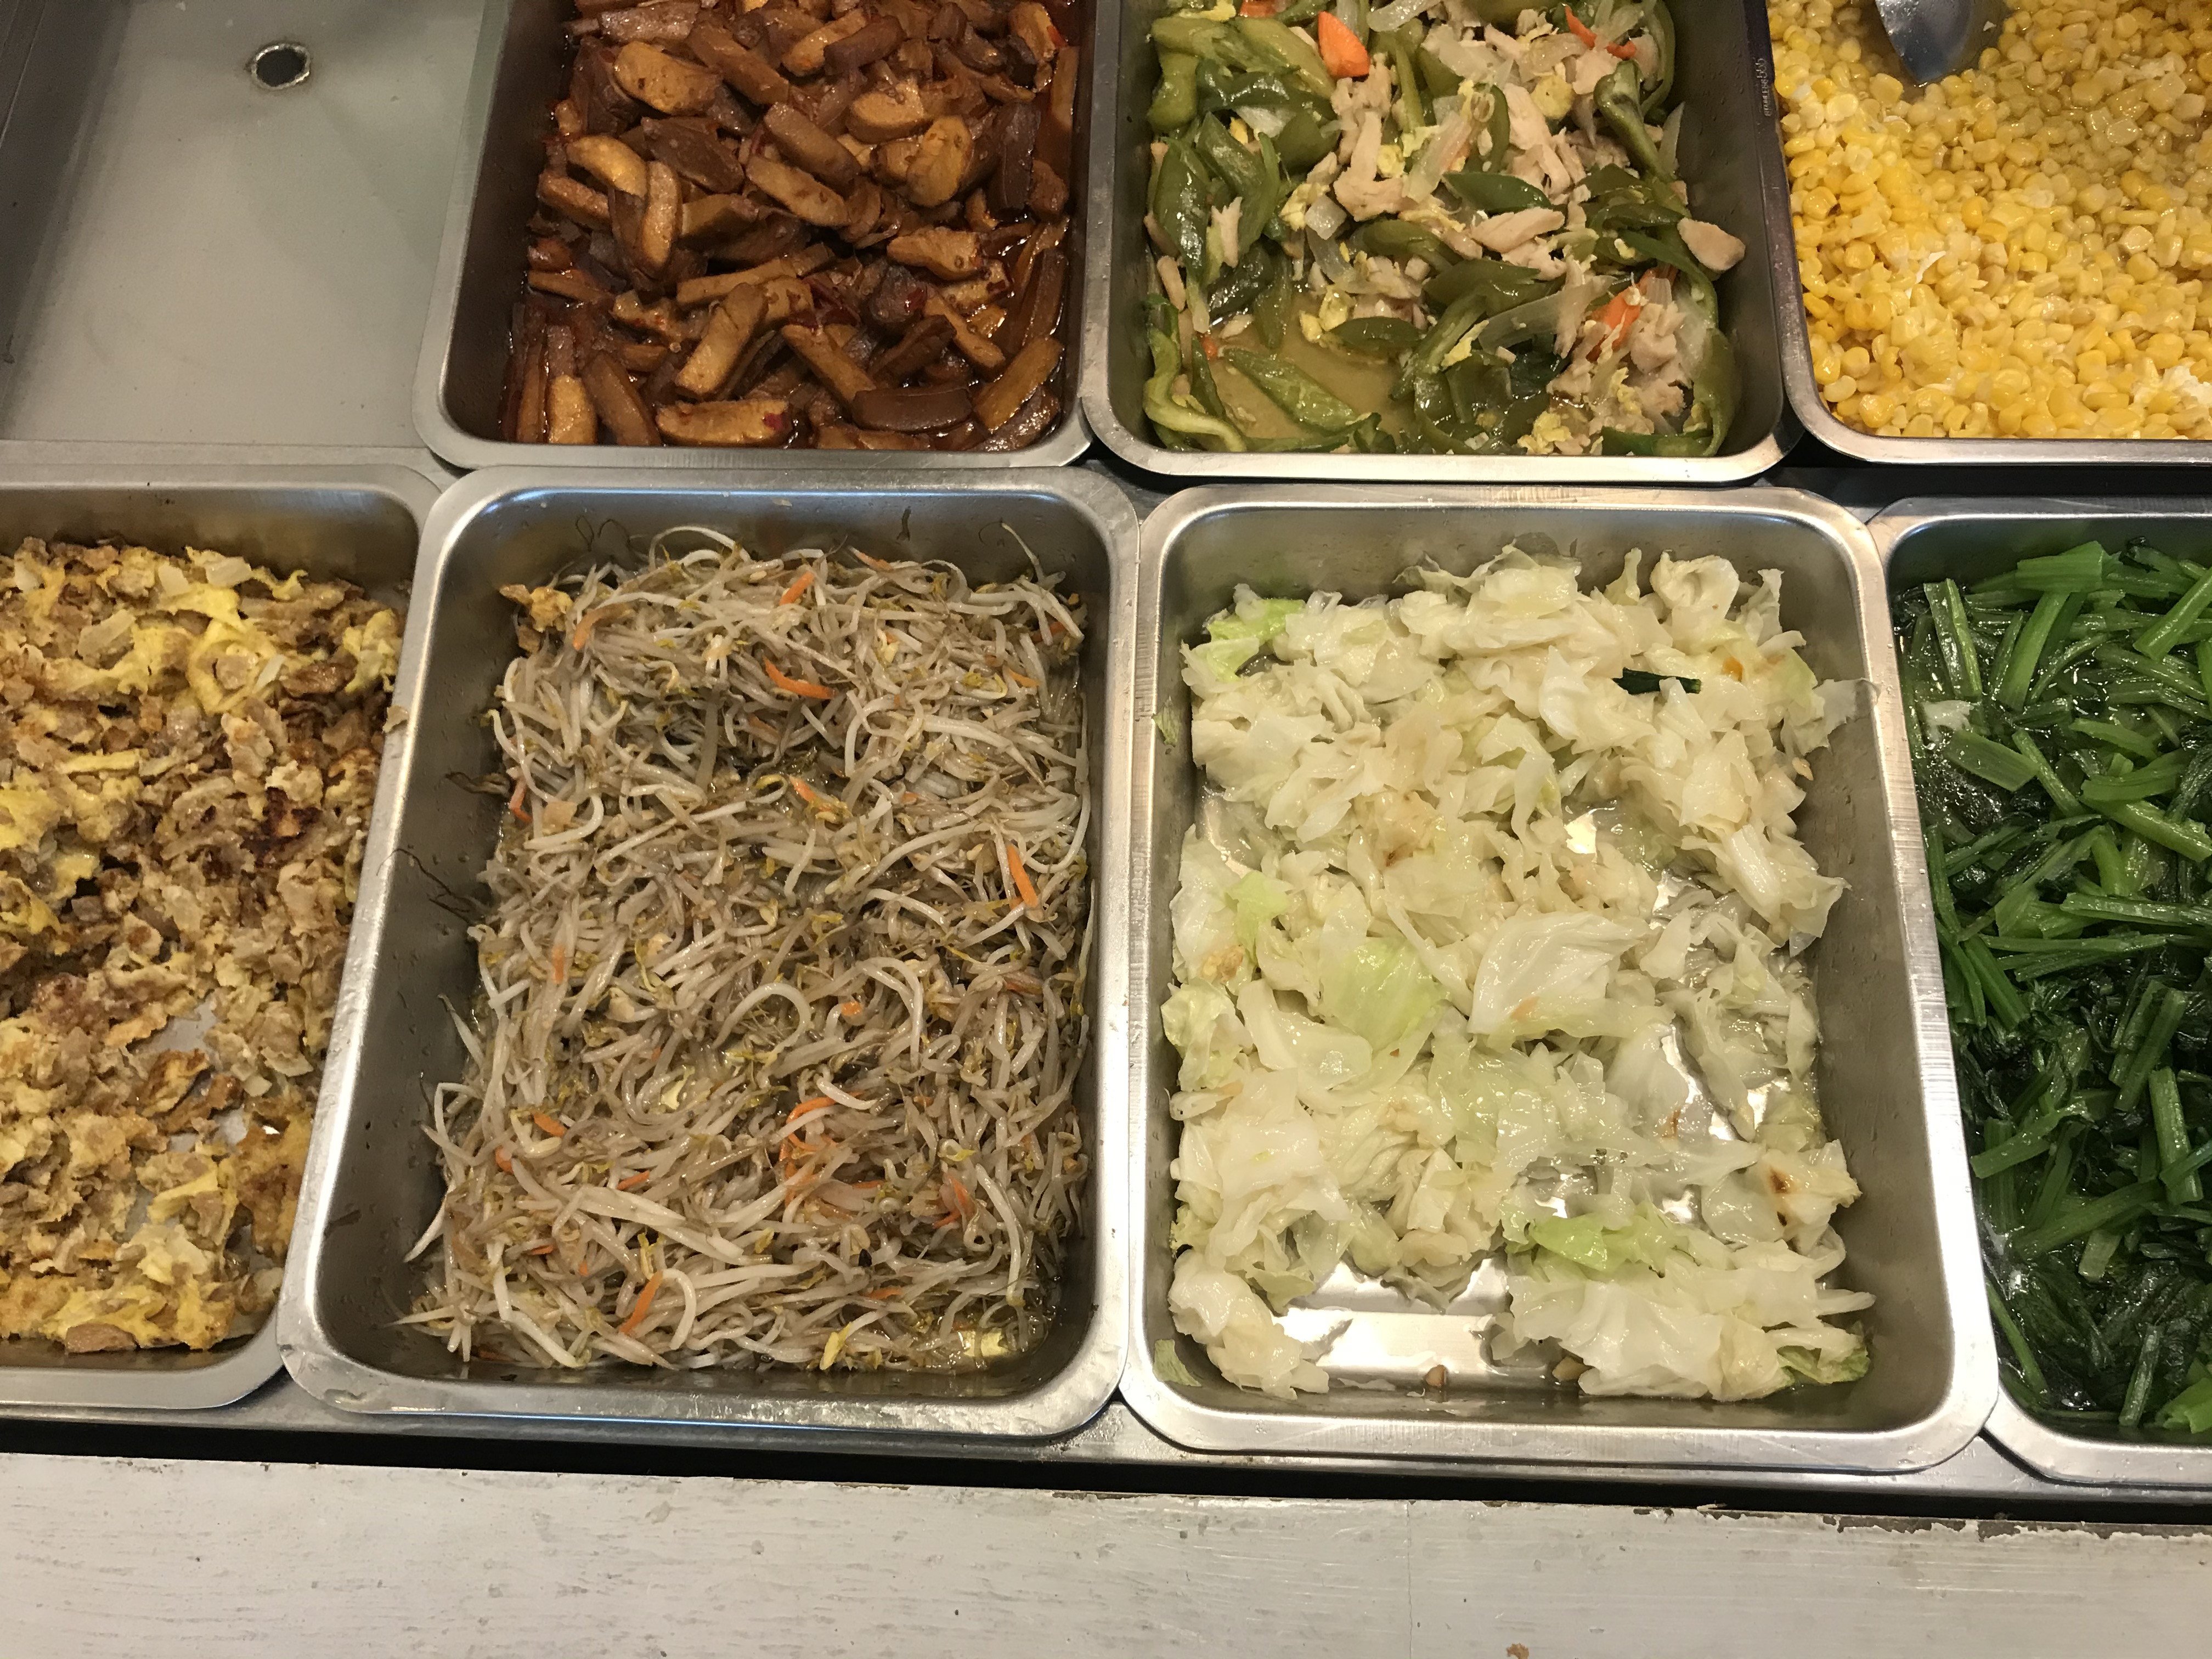chinese_cabbage: (1226, 608, 1815, 1387)
mung_bean_sprouts: (524, 565, 1054, 1363)
water_spinach: (1975, 565, 2212, 1427)
